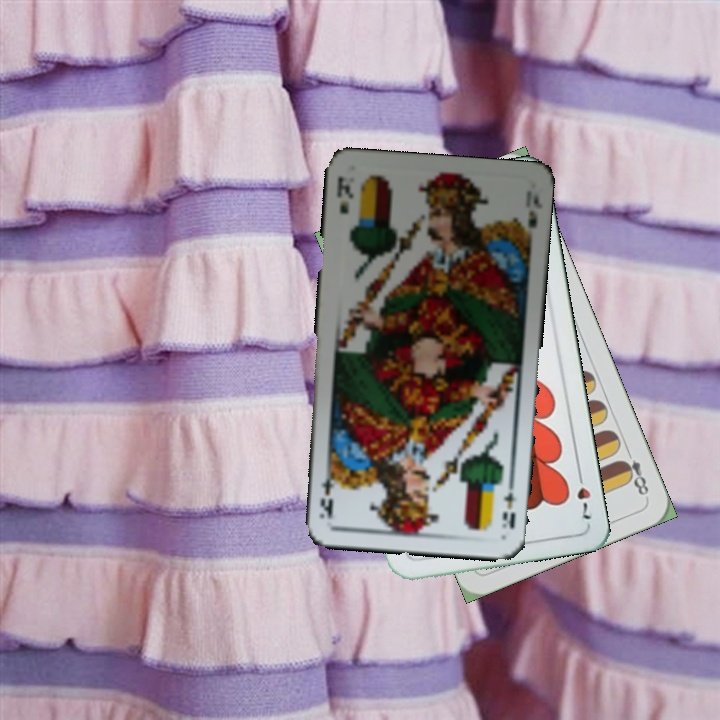E8: (616, 444, 651, 498)
EK: (497, 476, 520, 531), (332, 172, 357, 217)
H7: (573, 466, 594, 524)
